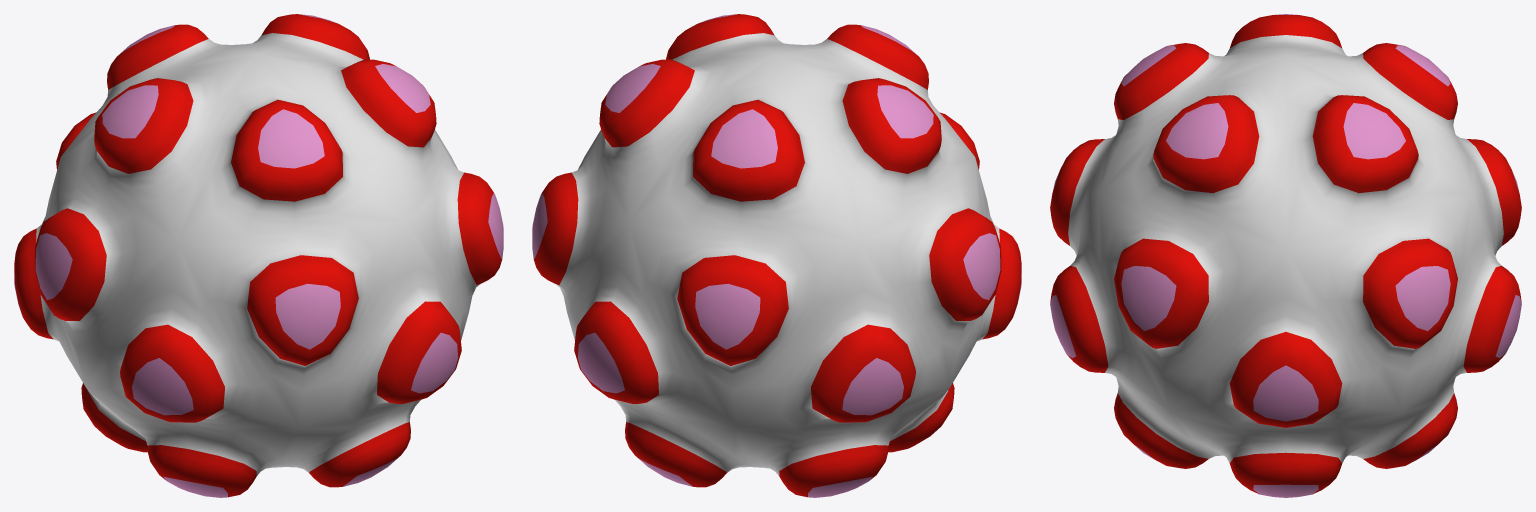
The model's file is katamar.glb.
3 renders of one model, left to right at view 1: azimuth 30°, elevation 25°; view 2: azimuth 150°, elevation 25°; view 3: azimuth 270°, elevation 25°, orthographic.
Parts seen in each view (by area): view 1: Icosphere; view 2: Icosphere; view 3: Icosphere.
Part boxes in pixels (x1,y1,x2,y2): Icosphere: [14, 14, 503, 497]; Icosphere: [532, 14, 1021, 497]; Icosphere: [1050, 14, 1521, 497].
Bounding box in the file's own units: 1.96 × 1.78 × 1.91.
